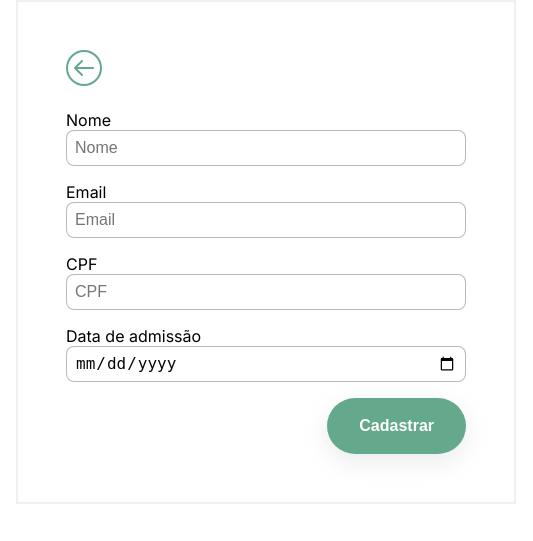
Test: NewUserPage › should apply CPF mask correctly
Type "12345678910" into the field labelled "CPF" at [266, 292], box [66, 274, 466, 310]
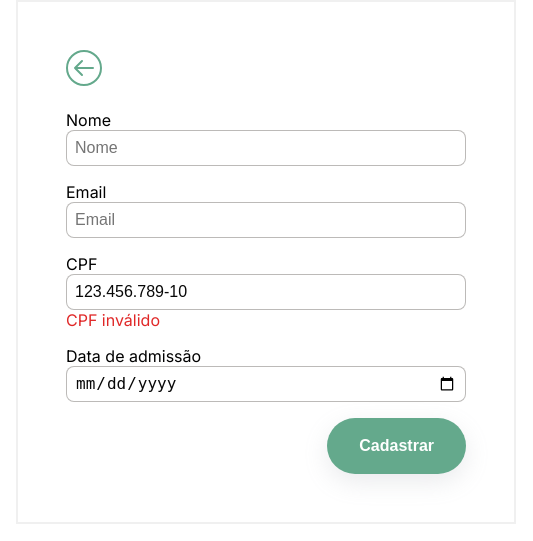
Now the field labelled "CPF" holds "123.456.789-10", box [66, 274, 466, 310]
